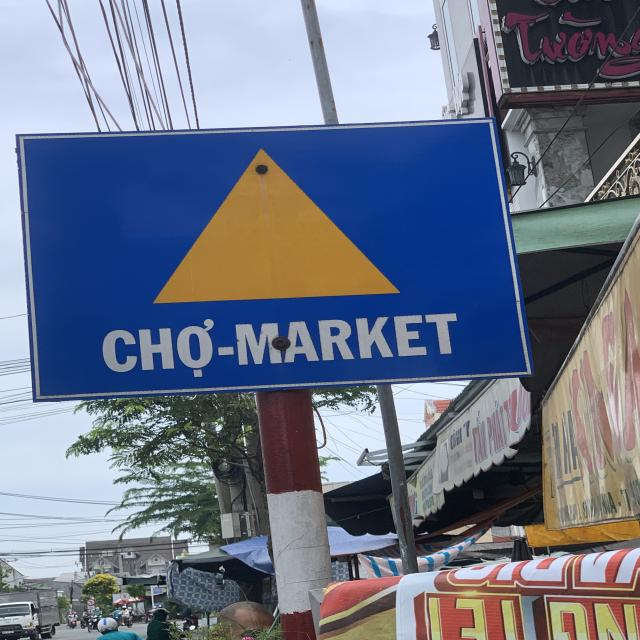Cho_Quay_Xe: (35, 124, 529, 391)
